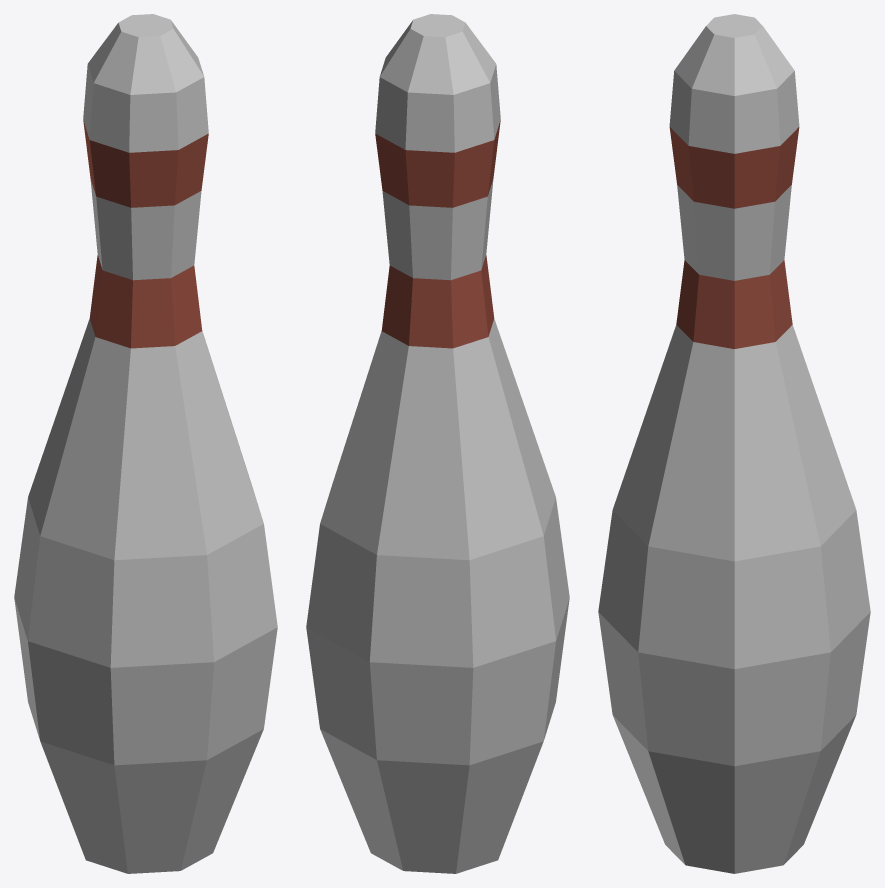
File: SM_Prop_Bowling_Pin_01.fbx
3 renders of one model, left to right at view 1: azimuth 30°, elevation 25°; view 2: azimuth 150°, elevation 25°; view 3: azimuth 270°, elevation 25°, orthographic.
Visible parts, largest first — view 1: SM_Prop_Bowling_Pin_01; view 2: SM_Prop_Bowling_Pin_01; view 3: SM_Prop_Bowling_Pin_01.
Boxes of the visible parts, <box> form: SM_Prop_Bowling_Pin_01: <box>14,14,277,873</box>; SM_Prop_Bowling_Pin_01: <box>306,14,569,873</box>; SM_Prop_Bowling_Pin_01: <box>598,14,870,873</box>.
Bounding box in the file's own units: 18.54 × 61.47 × 18.54.
